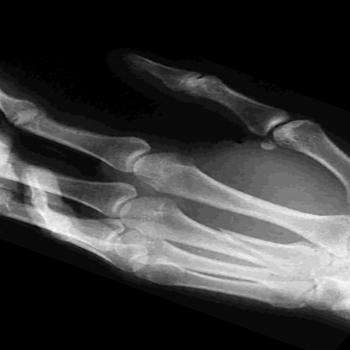Fracture: (214, 229, 280, 266)
